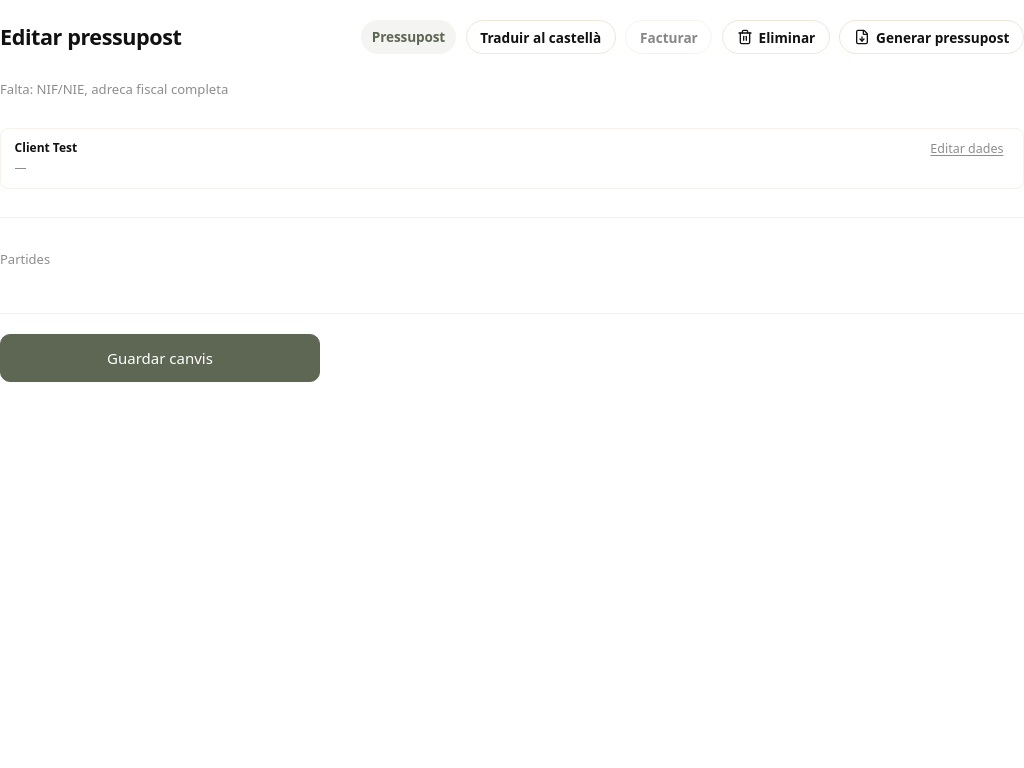
it: BudgetDraftView - orphan contact dialog › keeps orphan-contact dialog open after deleting the budget
# open delete confirm
Step 1. Click the button titled "Eliminar pressupost" → (776, 37), box [722,20,830,54]
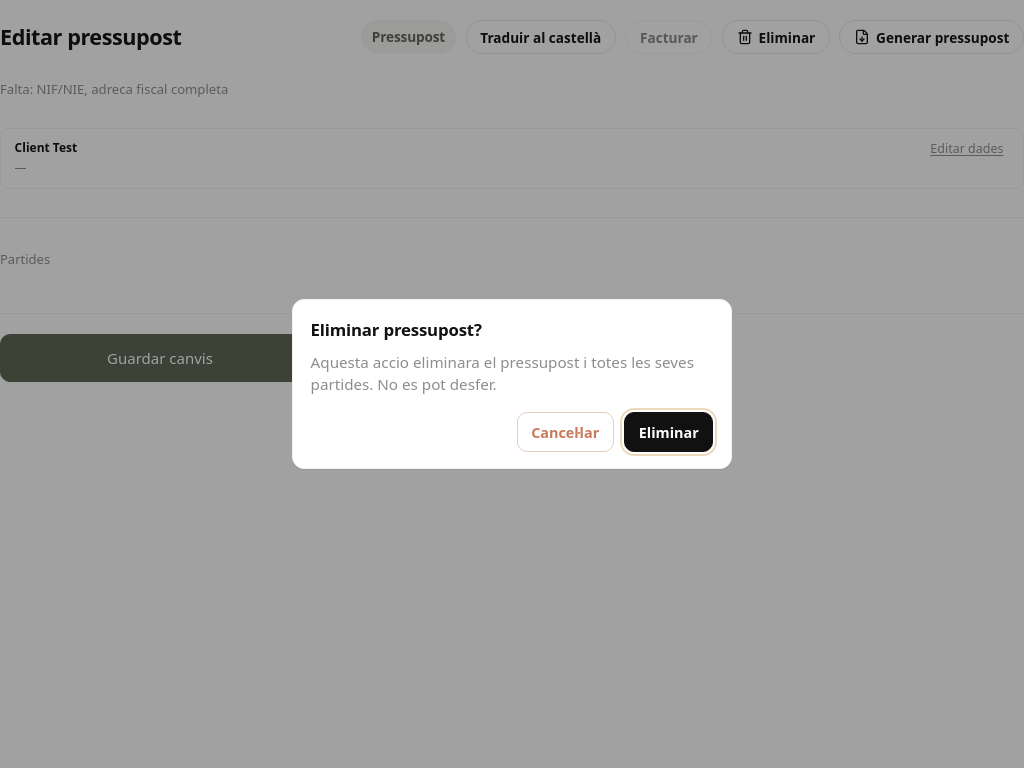
Step 2. Click the button "Eliminar" → (669, 432), box [624,412,713,452]
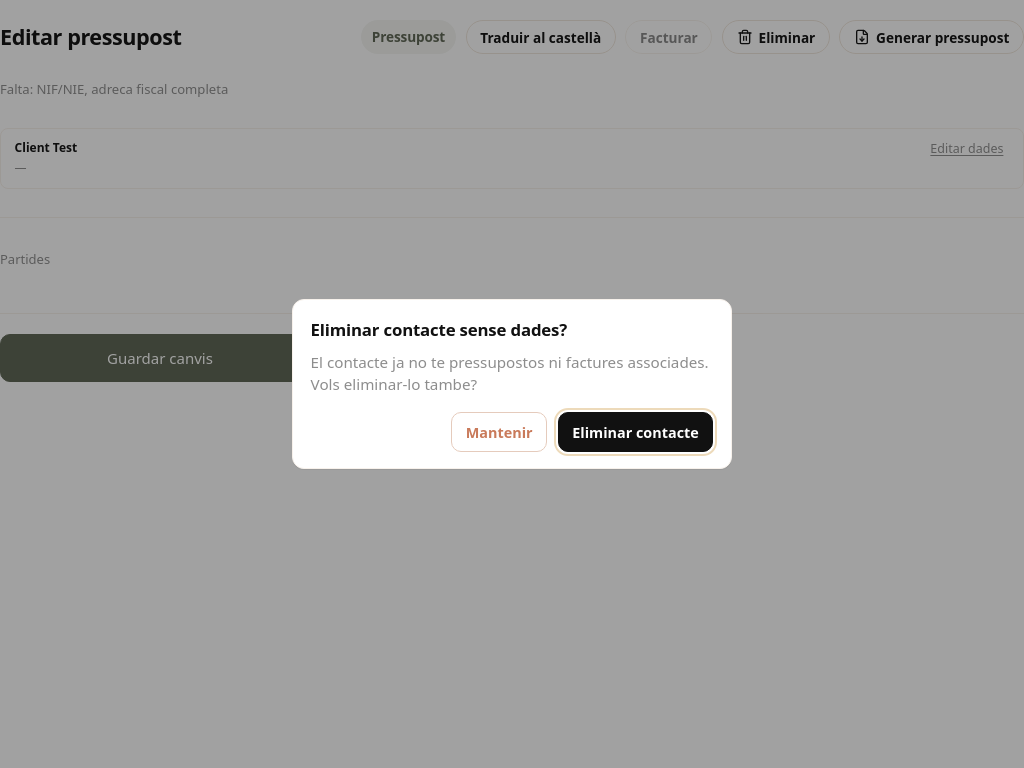
Now the heading "Eliminar contacte sense dades?" is shown, box [311,318,567,341]
